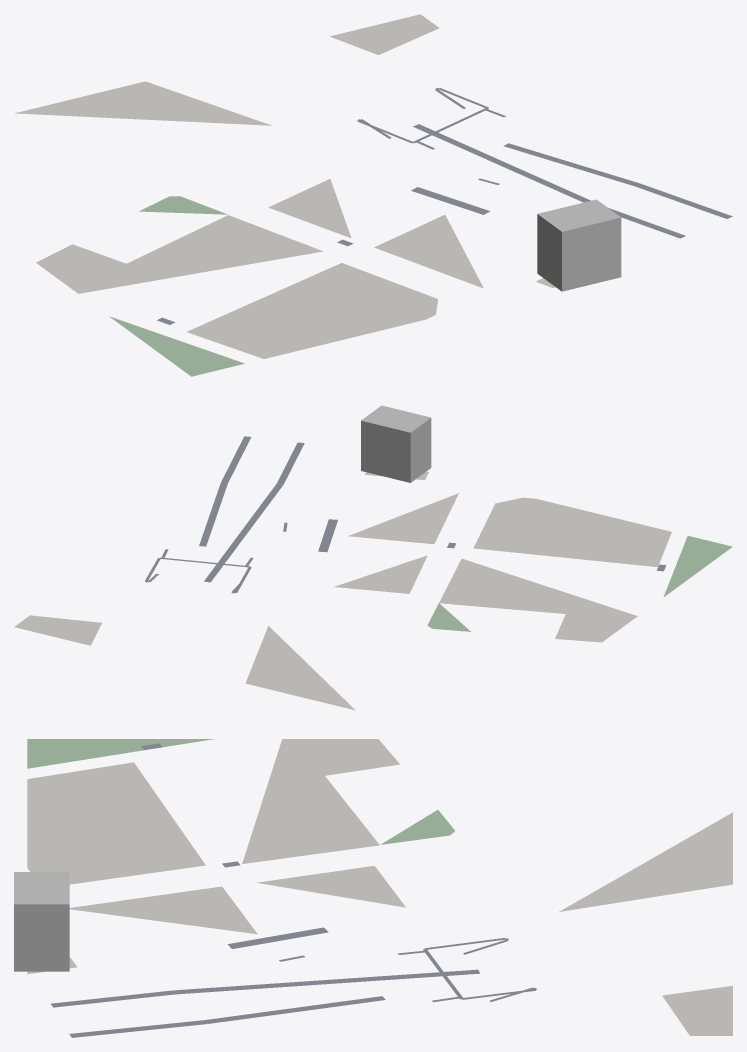
Rendered from 136_97_mid.glb.
The picture shows the model from 3 angles, top to bottom: view 1: azimuth 30°, elevation 25°; view 2: azimuth 150°, elevation 25°; view 3: azimuth 270°, elevation 25°; orthographic projection. The views are drawn at different scales.
Size of the model in its own units: 518 by 53.14 by 510.
